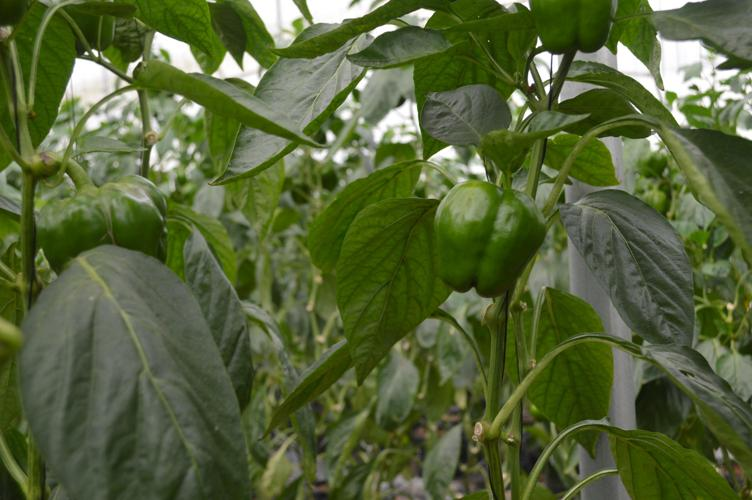BellPepper: (423, 167, 555, 314), (37, 173, 199, 283)
